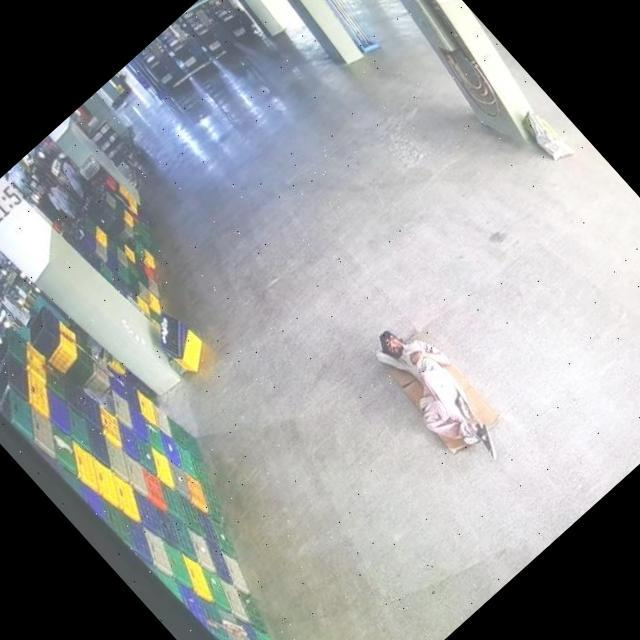person: (357, 306, 520, 478)
